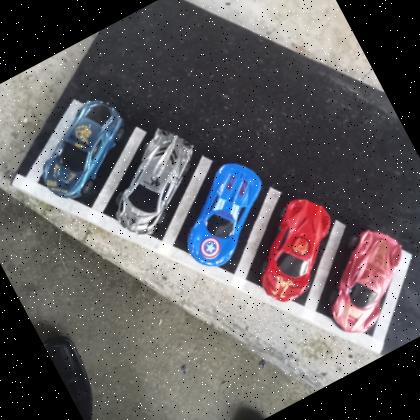Car: (86, 114, 222, 244), (158, 149, 290, 276), (232, 185, 359, 309), (18, 87, 147, 208), (302, 217, 420, 342)
